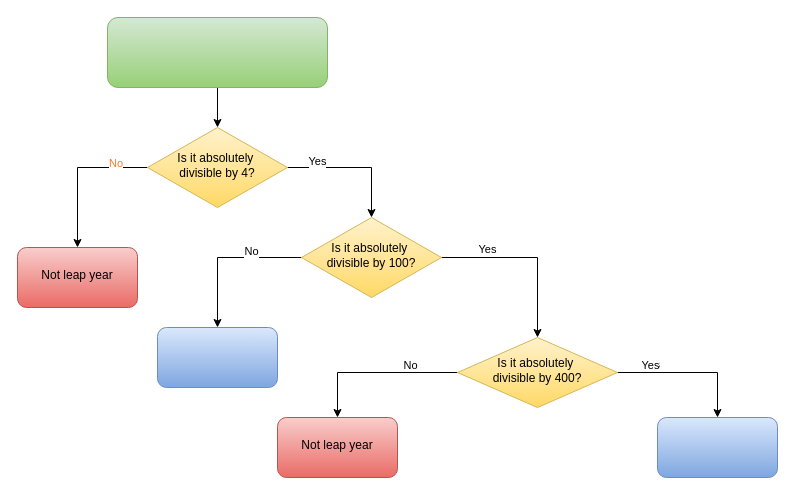
Image size: 795x495. Some labels were removed from this diagram. The centre of each missing label's shape, as x and y in pixels:
Leap year: (217,357)
Lleap year: (717,447)
Start: (217,52)
